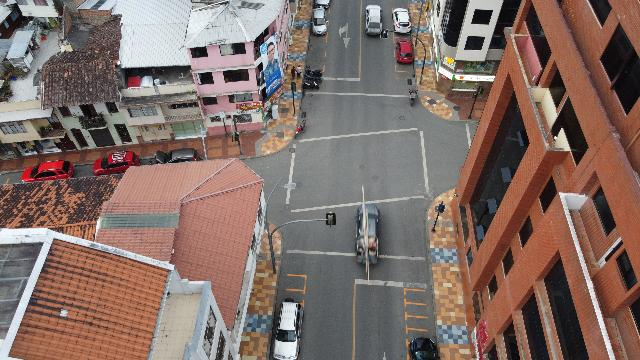Vehiculo: (272, 298, 304, 360), (355, 204, 381, 264), (93, 150, 139, 176), (22, 160, 74, 182), (153, 148, 204, 164), (408, 337, 439, 359), (364, 5, 382, 35), (392, 7, 412, 32), (312, 7, 328, 35), (396, 40, 412, 64), (314, 0, 330, 8)
